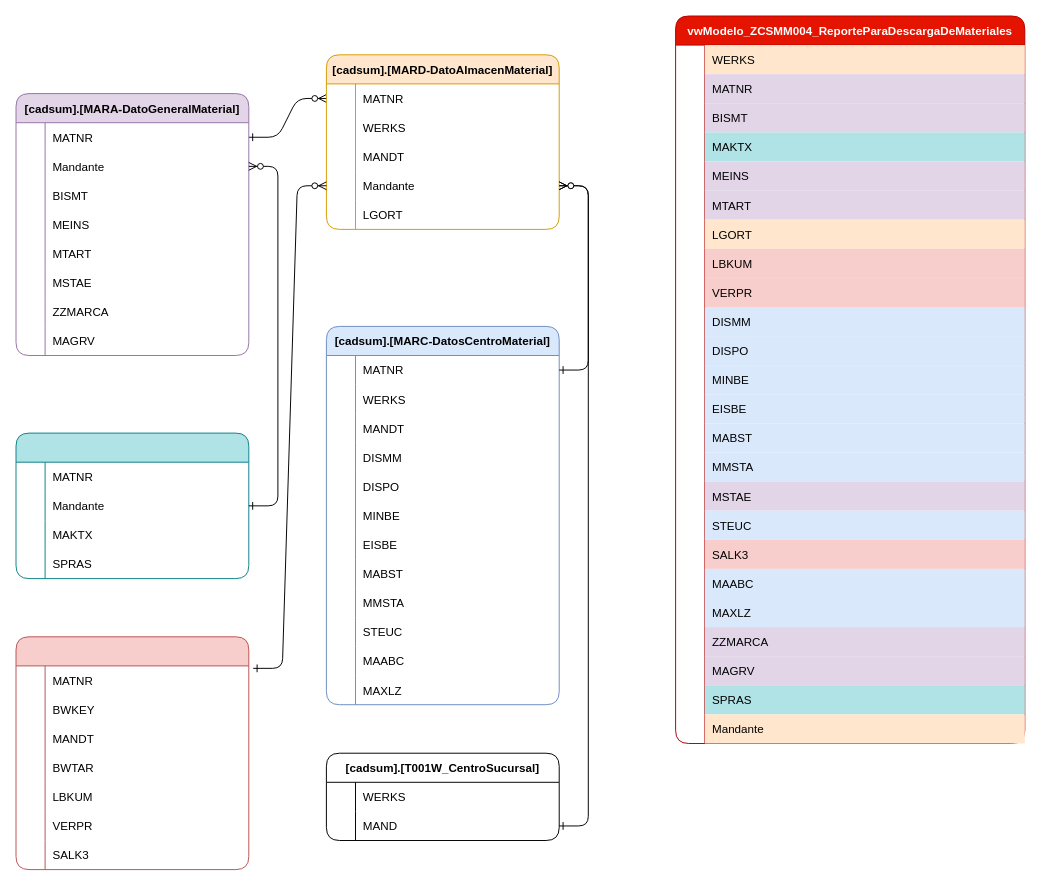
Image size: 1041x886. Some labels were removed from this diagram. Here are the shapes that lost their labels. From the top down, the box of each, then its label:
(15, 432, 249, 579): [cadsum].[MAKT-TextoBreveMaterial]
(15, 636, 249, 870): [cadsum].[MBEW-ValoracionMaterial]
